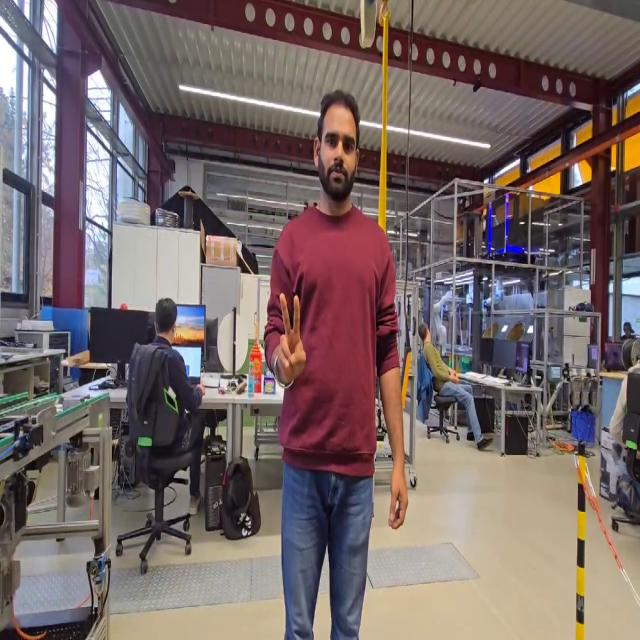v_sign: (270, 289, 308, 387)
